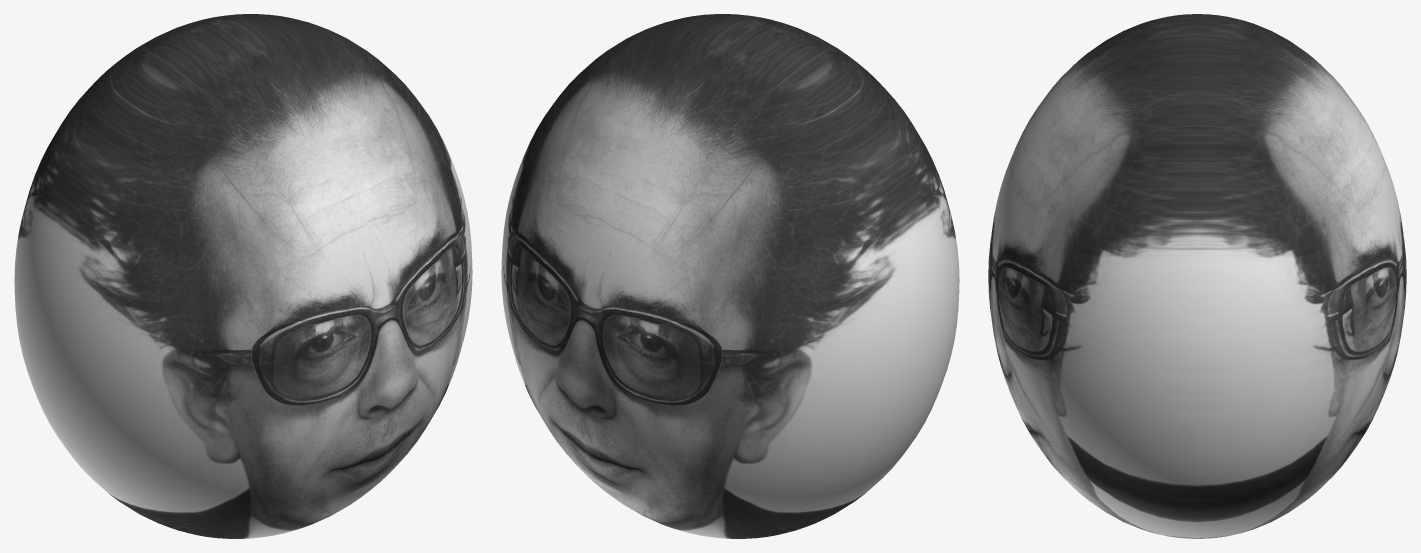
Rendered from ismail-kadare.glb.
The picture shows the model from 3 angles, left to right: view 1: azimuth 30°, elevation 25°; view 2: azimuth 150°, elevation 25°; view 3: azimuth 270°, elevation 25°; orthographic projection.
Parts seen in each view (by area): view 1: head; view 2: head; view 3: head.
Part boxes in pixels (x1=…): head: x1=14, y1=14, x2=472, y2=538; head: x1=501, y1=14, x2=959, y2=538; head: x1=988, y1=14, x2=1406, y2=538.
Size of the model in its own units: 1.73 by 2 by 1.56.
Materials: 1 (1 with a texture image).
